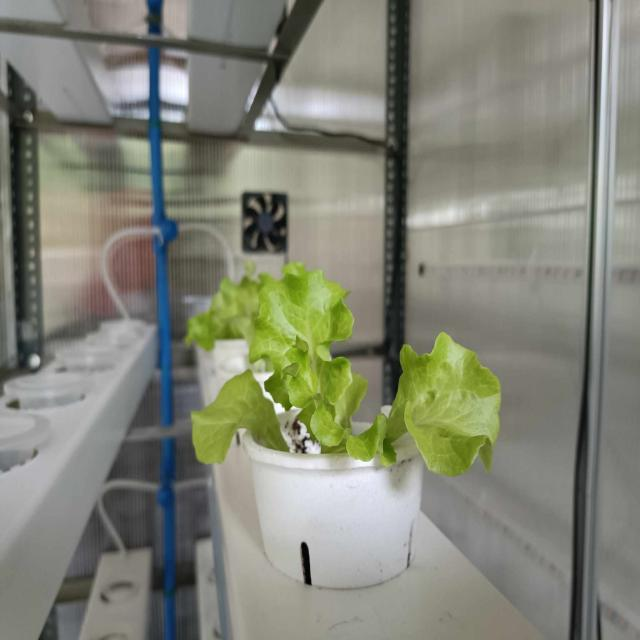Lettuce-Not-Ready-to-Harvest: (190, 332, 501, 478), (250, 265, 355, 369), (184, 277, 259, 353)
